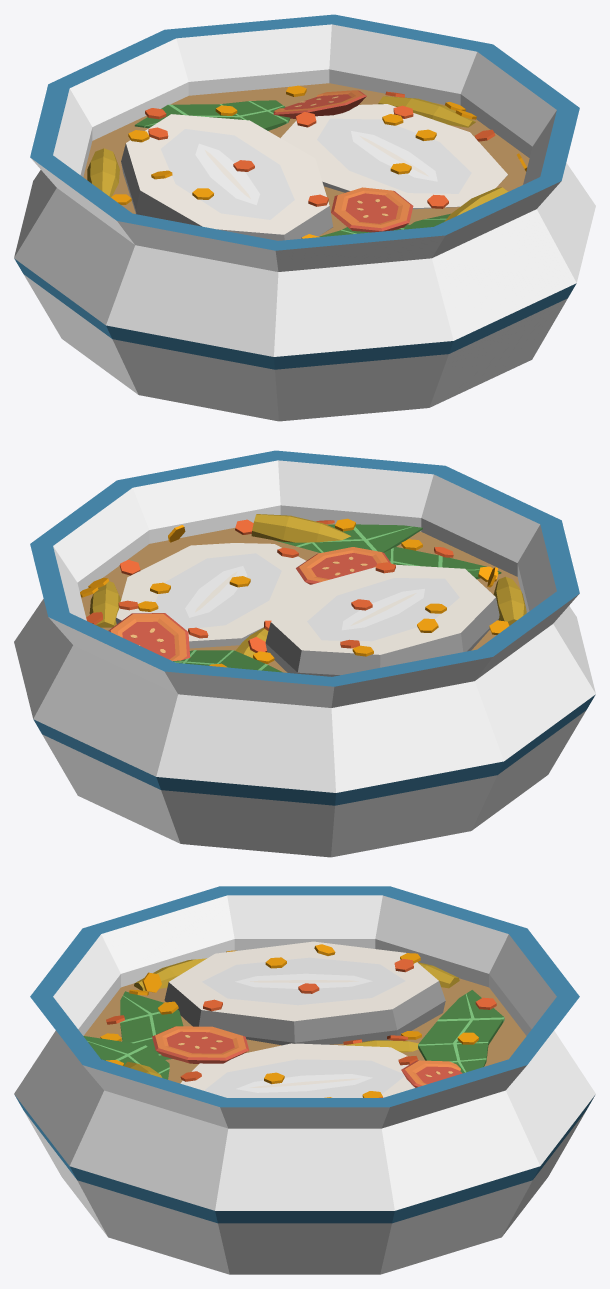
Rendered from FINAL_Sinigang sa Kamias.fbx.
The picture shows the model from 3 angles, top to bottom: view 1: azimuth 30°, elevation 25°; view 2: azimuth 150°, elevation 25°; view 3: azimuth 270°, elevation 25°; orthographic projection. The views are drawn at different scales.
Parts seen in each view (by area): view 1: Sinigang sa Kamias; view 2: Sinigang sa Kamias; view 3: Sinigang sa Kamias.
Boxes of the visible parts, box(x1,y1,x2,y2) form: Sinigang sa Kamias: box(14, 14, 595, 421); Sinigang sa Kamias: box(14, 450, 595, 857); Sinigang sa Kamias: box(14, 886, 595, 1274).
Size of the model in its own units: 94.74 by 40.56 by 99.62.
